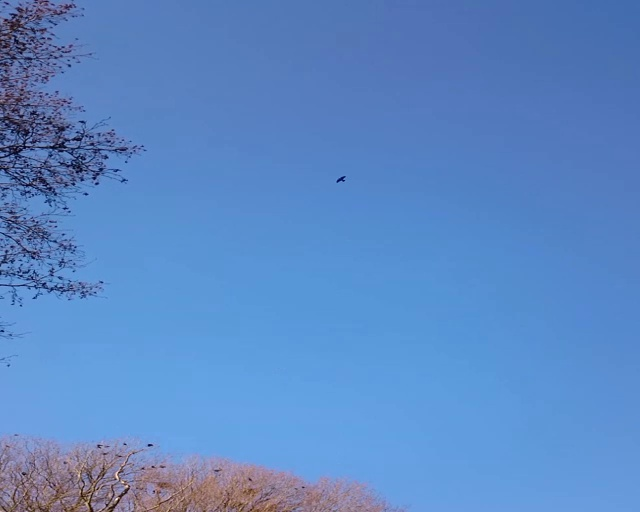BIRD: (336, 175, 346, 183)
